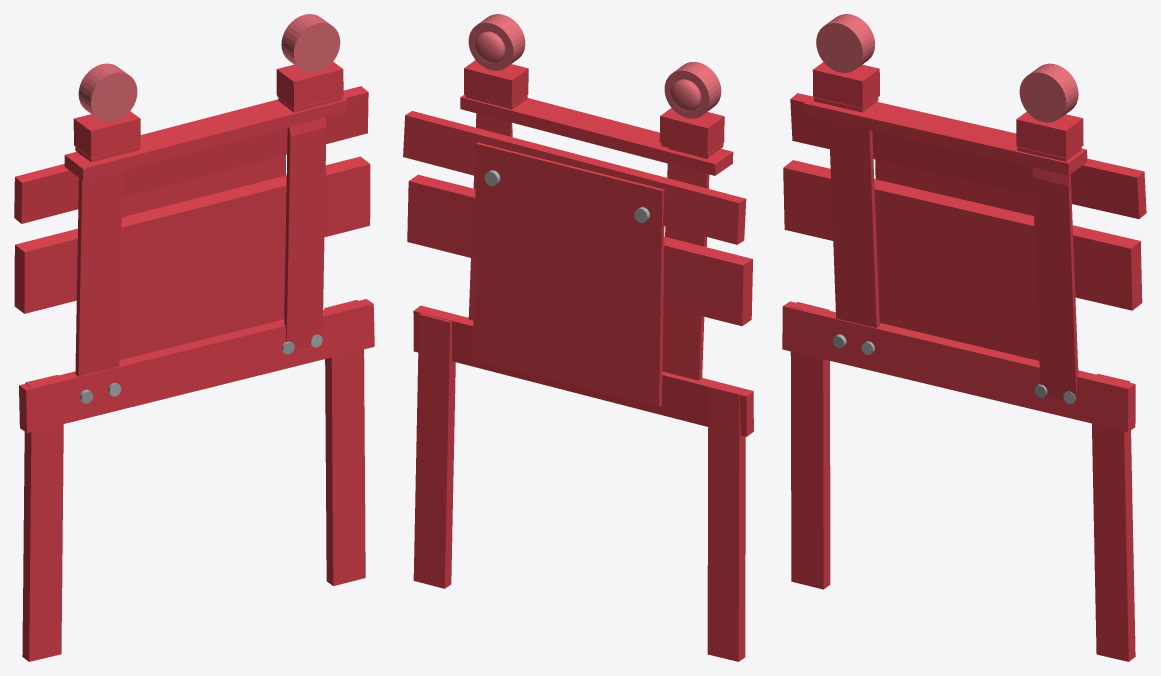
Rendered from Tall_barricade.fbx.
The picture shows the model from 3 angles, left to right: view 1: azimuth 30°, elevation 25°; view 2: azimuth 150°, elevation 25°; view 3: azimuth 330°, elevation 25°; orthographic projection. The views are drawn at different scales.
Parts seen in each view (by area): view 1: Sign; view 2: Sign; view 3: Sign.
Part boxes in pixels (<box>): Sign: <box>14,14,374,661</box>; Sign: <box>403,14,753,661</box>; Sign: <box>782,14,1146,661</box>.
Size of the model in its own units: 6031 by 9677 by 1188.
